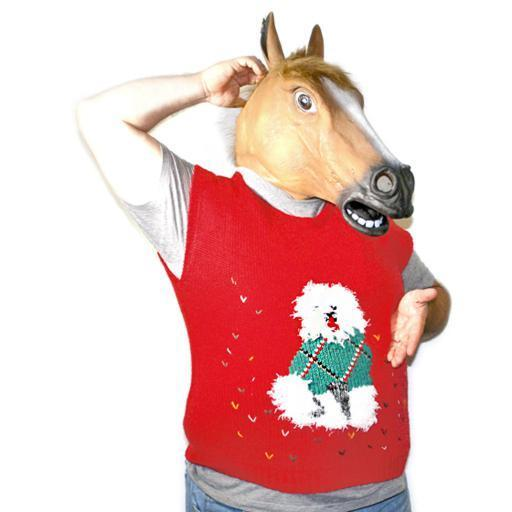horse: (218, 10, 416, 236)
